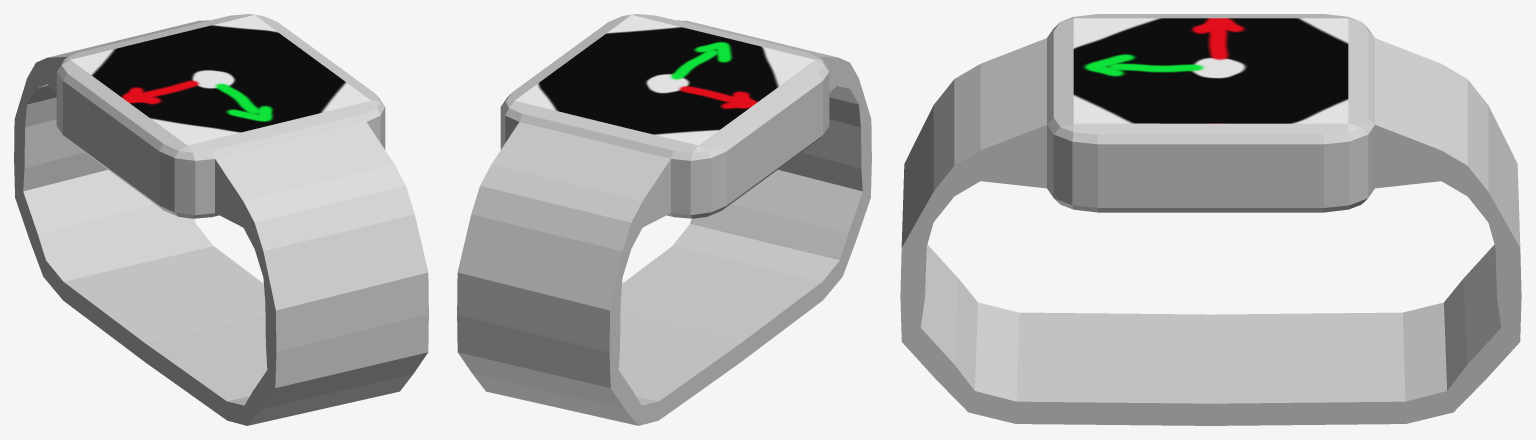
Rendered from SmartWatch.fbx.
3 renders of one model, left to right at view 1: azimuth 30°, elevation 25°; view 2: azimuth 150°, elevation 25°; view 3: azimuth 270°, elevation 25°, orthographic. The views are drawn at different scales.
Parts seen in each view (by area): view 1: SmartWatch; view 2: SmartWatch; view 3: SmartWatch.
Part boxes in pixels (x1,y1,x2,y2): SmartWatch: (14, 14, 428, 425); SmartWatch: (457, 14, 871, 425); SmartWatch: (900, 14, 1521, 425).
Bounding box in the file's own units: 14.6 × 16.88 × 30.48.
2 materials, 1 textured.
